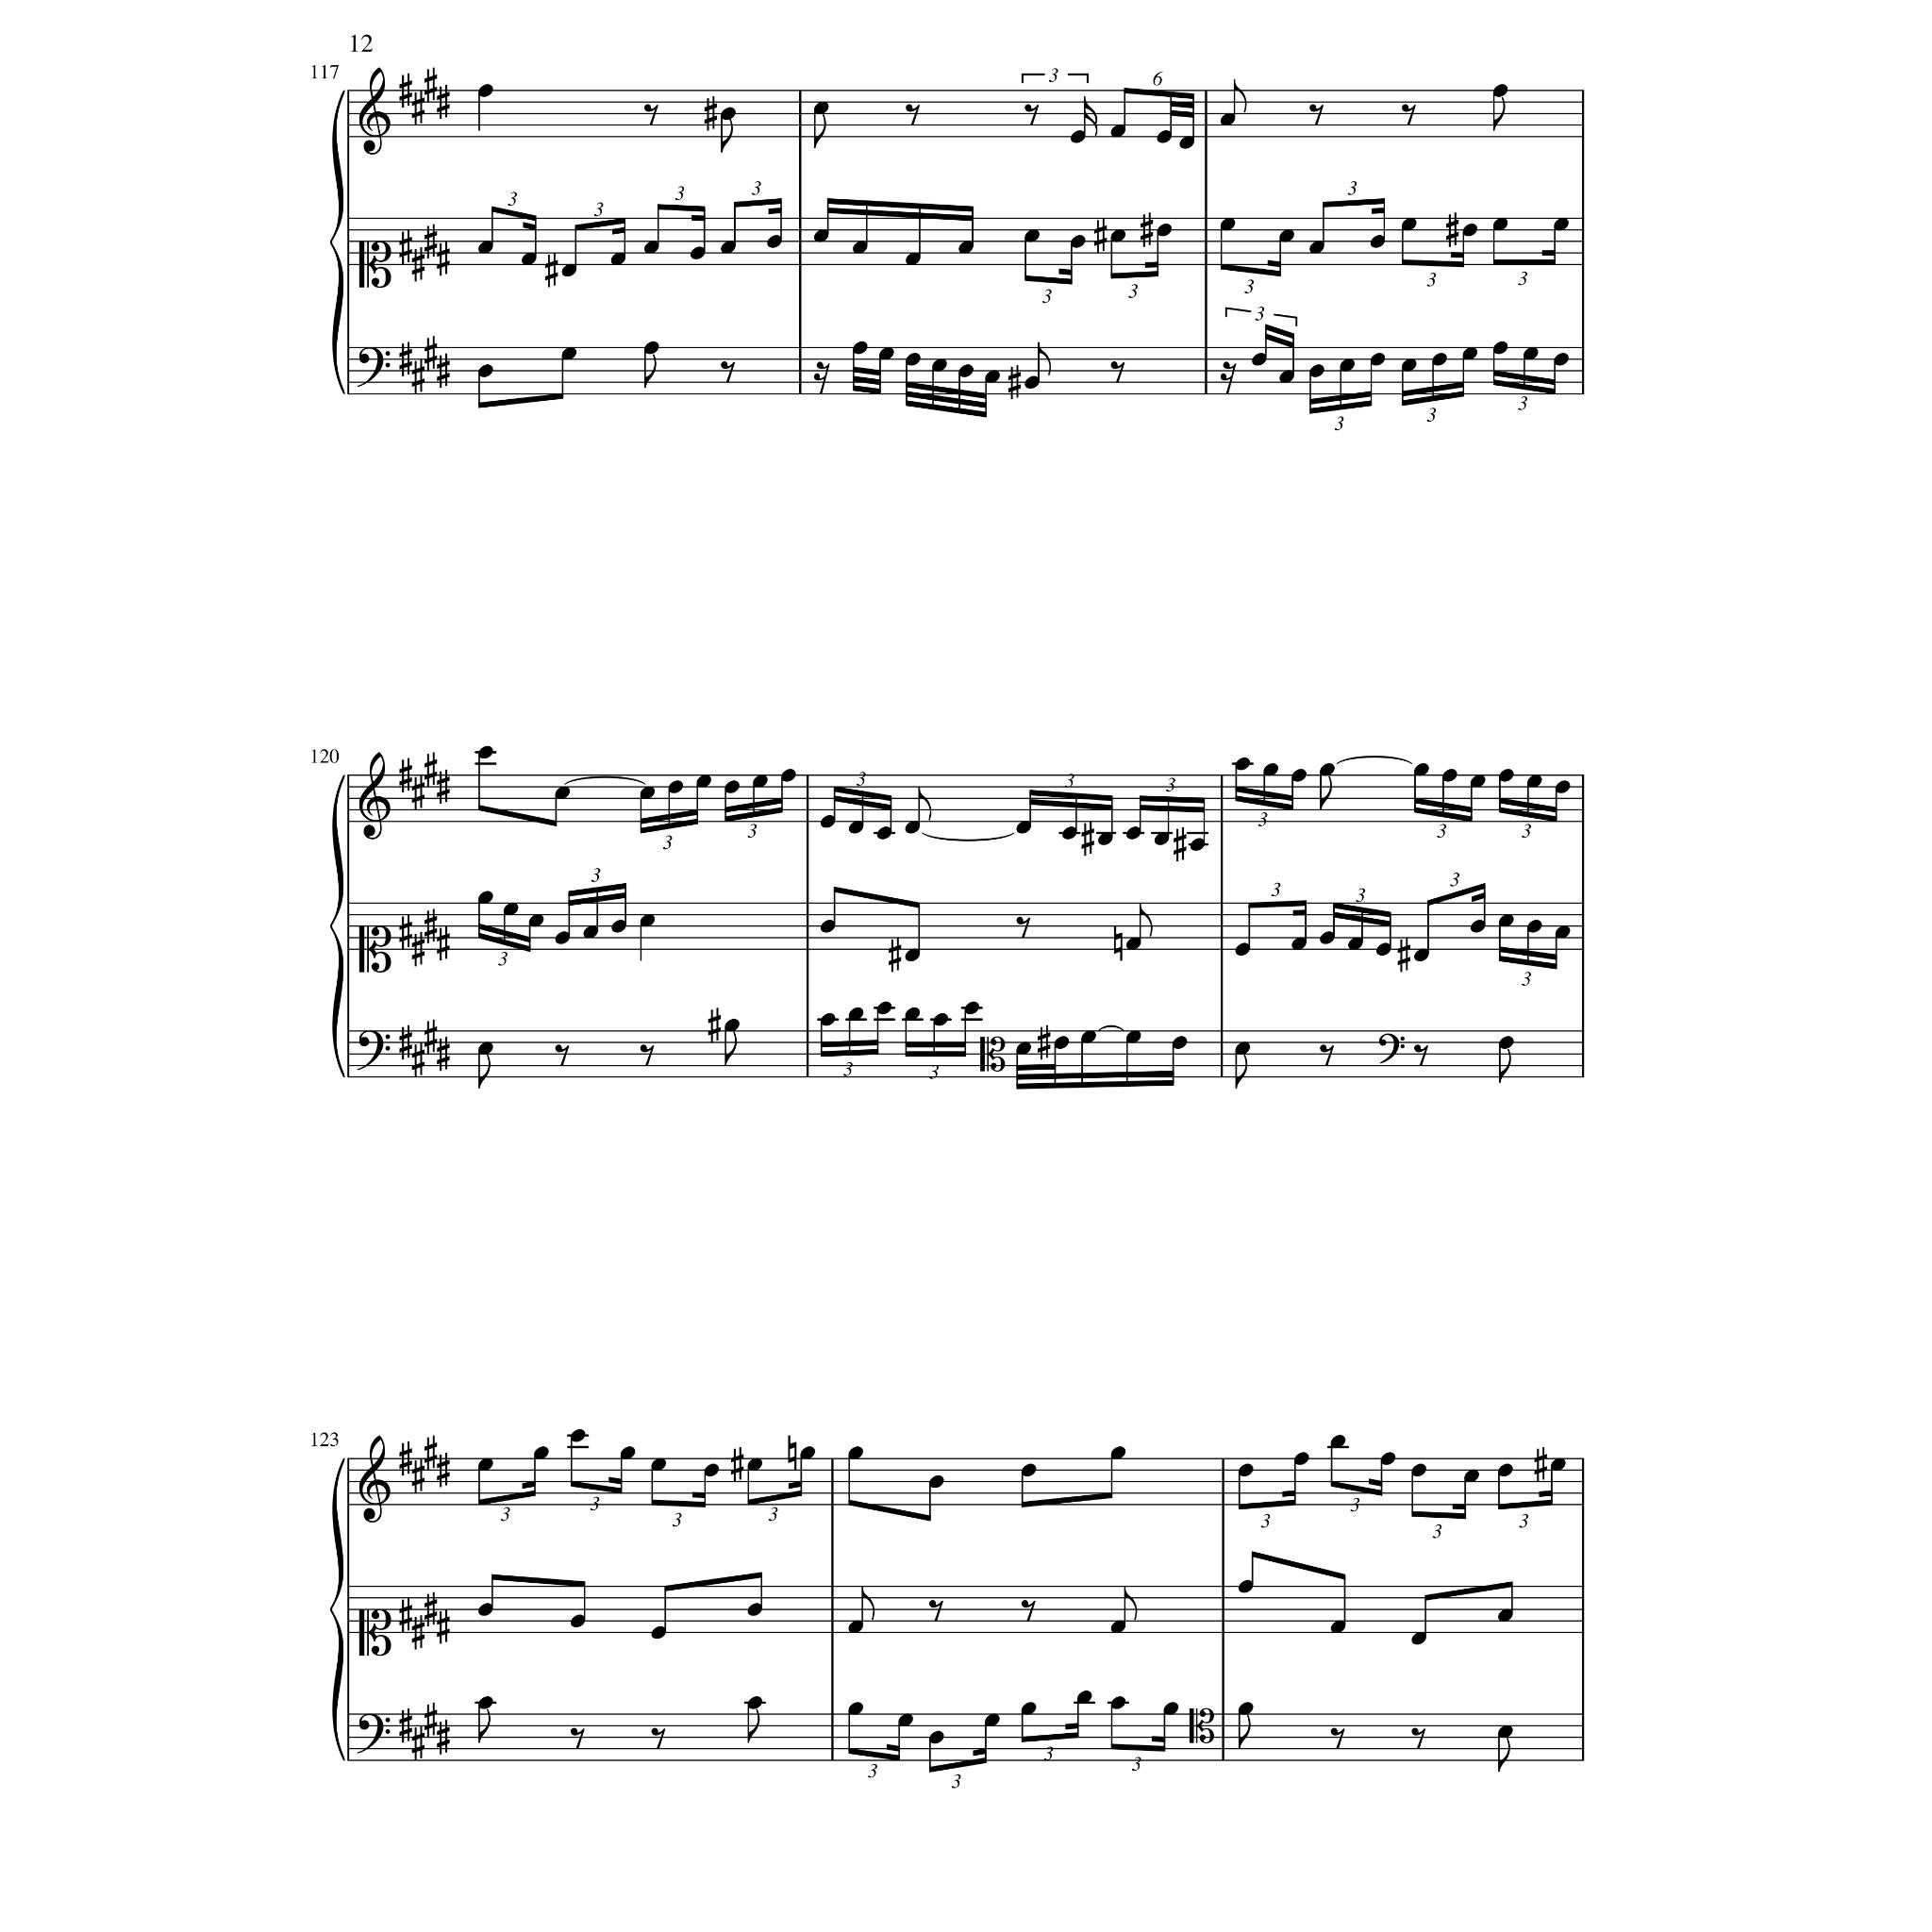brace: (329, 90, 345, 395), (329, 775, 345, 1077), (329, 1458, 345, 1760)
fClef: (357, 347, 391, 387), (357, 1031, 391, 1070), (357, 1714, 391, 1753)
flag16thUp: (1085, 97, 1097, 138)
flag8thDown: (644, 354, 656, 389), (722, 119, 734, 154), (725, 1031, 738, 1067), (1238, 1714, 1251, 1750), (1493, 97, 1506, 131), (814, 115, 826, 149), (1320, 777, 1332, 810), (1235, 1054, 1247, 1088), (478, 1054, 490, 1088), (1499, 1737, 1511, 1771), (478, 1709, 490, 1743), (1500, 1049, 1511, 1083), (748, 1709, 759, 1743)
flag8thUp: (1233, 80, 1247, 113), (1139, 904, 1154, 938), (1039, 343, 1051, 377), (918, 787, 931, 821), (1125, 1587, 1138, 1621), (862, 1587, 874, 1621)
gClef: (359, 67, 391, 156), (359, 752, 391, 840), (359, 1435, 391, 1523)
noteheadBlack: (1497, 1035, 1514, 1049), (1553, 780, 1571, 794), (1553, 925, 1571, 939), (1309, 241, 1325, 255), (1251, 352, 1267, 366), (1369, 352, 1385, 366), (1401, 218, 1417, 232), (1219, 218, 1235, 232), (1461, 223, 1477, 237), (1461, 347, 1477, 361), (1491, 83, 1507, 97), (1491, 218, 1507, 232), (1431, 352, 1447, 366), (1553, 218, 1569, 232), (1553, 352, 1569, 366), (1523, 347, 1539, 361), (720, 241, 736, 255), (642, 241, 658, 255), (812, 101, 828, 115), (610, 253, 626, 267), (478, 83, 494, 97), (478, 241, 494, 255), (561, 264, 577, 278), (561, 347, 577, 361), (522, 253, 538, 267), (1069, 131, 1085, 145), (1109, 124, 1125, 138), (878, 347, 893, 361), (853, 241, 869, 255), (906, 253, 922, 267), (906, 352, 922, 366), (1318, 763, 1334, 777), (1318, 931, 1334, 945), (1292, 936, 1307, 950), (1263, 763, 1279, 777), (1414, 948, 1430, 962), (1414, 763, 1430, 777), (1346, 936, 1362, 950), (1154, 832, 1169, 846), (1171, 1035, 1187, 1049), (1125, 826, 1141, 840), (1125, 936, 1141, 950), (1125, 1030, 1141, 1044), (1097, 832, 1113, 846), (1235, 1042, 1251, 1056), (1235, 757, 1251, 771), (667, 780, 683, 794), (582, 925, 598, 939), (724, 780, 740, 794), (478, 892, 494, 906), (478, 1042, 494, 1056), (554, 931, 570, 945), (502, 902, 518, 916), (964, 1001, 980, 1016), (1016, 821, 1031, 835), (1016, 1042, 1031, 1056), (904, 821, 920, 835), (904, 948, 920, 962), (904, 1007, 920, 1021), (1053, 1035, 1069, 1049), (1062, 826, 1077, 840), (1081, 1030, 1097, 1044), (847, 1007, 863, 1021), (847, 821, 863, 835), (876, 1001, 892, 1016), (876, 826, 892, 840), (1109, 1445, 1125, 1460), (1076, 1690, 1092, 1704), (1237, 1580, 1253, 1594), (1497, 1725, 1513, 1739), (1497, 1608, 1513, 1622), (1463, 1468, 1479, 1483), (1410, 1631, 1426, 1645), (1550, 1458, 1566, 1472), (651, 1626, 667, 1640), (651, 1458, 667, 1472), (619, 1445, 635, 1460), (570, 1614, 586, 1628), (747, 1458, 763, 1472), (570, 1430, 586, 1444), (533, 1445, 548, 1460), (478, 1458, 494, 1472), (927, 1730, 943, 1744), (897, 1713, 913, 1727), (984, 1713, 1000, 1727), (847, 1445, 863, 1460), (800, 1445, 816, 1460), (1468, 775, 1486, 787), (1468, 920, 1486, 932), (1497, 770, 1514, 782), (1497, 915, 1514, 927), (1525, 775, 1543, 787), (1525, 920, 1543, 932), (1157, 223, 1171, 237), (1157, 131, 1171, 145), (959, 241, 973, 255), (1309, 364, 1325, 377), (1279, 372, 1295, 384), (1279, 230, 1295, 242), (1369, 235, 1385, 248), (1401, 359, 1417, 372), (1339, 359, 1355, 372), (1178, 136, 1194, 149), (1219, 113, 1235, 126), (1491, 341, 1507, 354), (690, 248, 706, 260), (720, 108, 736, 120), (642, 341, 658, 354), (812, 230, 828, 242), (766, 235, 782, 248), (478, 364, 494, 377), (984, 372, 1000, 384), (1024, 230, 1040, 242), (1024, 377, 1040, 389), (932, 359, 948, 372), (1069, 235, 1085, 248), (1109, 230, 1125, 242), (853, 341, 869, 354), (1292, 770, 1307, 782), (1375, 943, 1391, 955), (1189, 839, 1205, 851), (1235, 943, 1251, 955), (1442, 770, 1458, 782), (695, 775, 711, 787), (610, 920, 626, 932), (639, 787, 655, 800), (639, 915, 655, 927), (752, 775, 768, 787), (780, 770, 796, 782), (819, 816, 835, 828), (819, 920, 835, 932), (819, 1014, 835, 1026), (724, 1019, 740, 1031), (478, 747, 494, 759), (554, 787, 570, 800), (527, 915, 543, 927), (932, 1014, 948, 1026), (1380, 1453, 1396, 1465), (1330, 1621, 1346, 1633), (1330, 1435, 1346, 1447), (1293, 1453, 1309, 1465), (1109, 1697, 1125, 1709), (1109, 1621, 1125, 1633), (1237, 1702, 1253, 1714), (1237, 1465, 1253, 1477), (1162, 1702, 1178, 1714), (1497, 1465, 1513, 1477), (1410, 1465, 1426, 1477), (704, 1465, 720, 1477), (747, 1603, 763, 1615), (747, 1697, 763, 1709), (478, 1697, 494, 1709), (478, 1603, 494, 1615), (927, 1476, 943, 1488), (1021, 1702, 1037, 1714), (1021, 1465, 1037, 1477), (847, 1702, 863, 1714), (847, 1621, 863, 1633), (959, 364, 973, 377)
rest16th: (1219, 361, 1237, 395), (814, 361, 830, 395)
rest8th: (1318, 1044, 1334, 1067), (570, 1727, 586, 1750), (904, 104, 920, 126), (720, 361, 734, 384), (1111, 361, 1125, 384), (1414, 1044, 1428, 1067), (640, 1044, 655, 1067), (556, 1044, 570, 1067), (1016, 916, 1030, 939), (1330, 1727, 1345, 1750), (1412, 1727, 1426, 1750), (651, 1727, 665, 1750), (929, 1599, 943, 1622), (1021, 1599, 1035, 1622), (1309, 104, 1323, 126), (1401, 104, 1415, 126), (644, 104, 658, 126), (1024, 104, 1039, 126)
